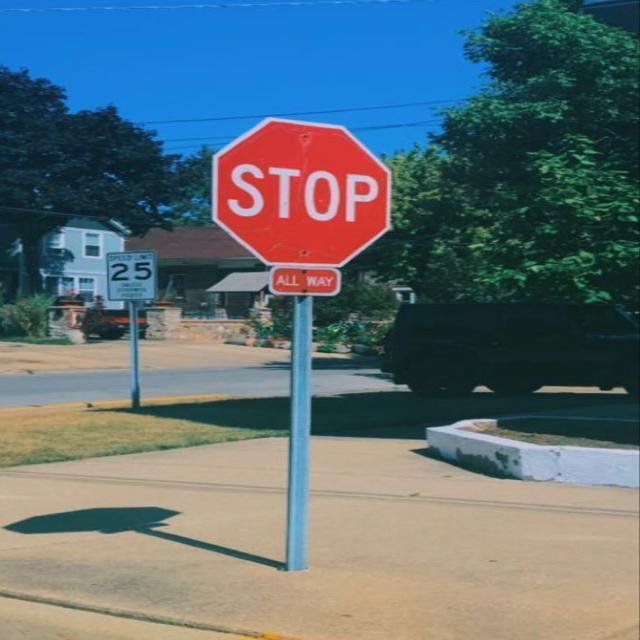stop: (210, 115, 392, 269)
